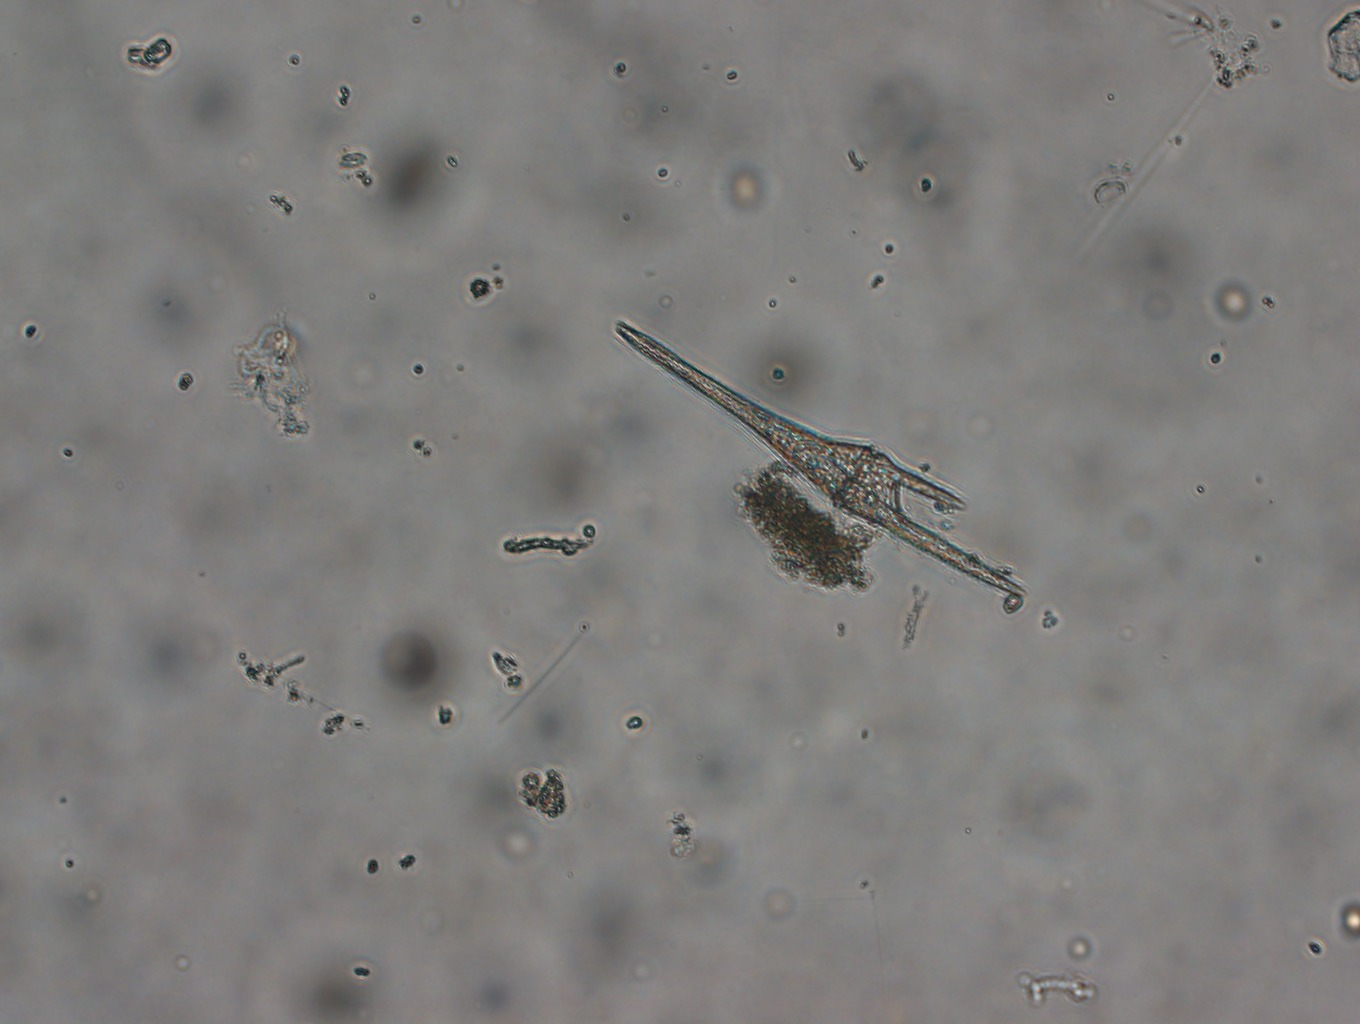ceratium furca: (609, 318, 1029, 600)
